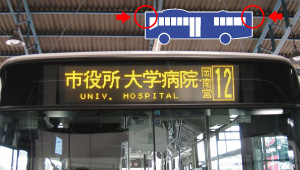destination: (57, 63, 242, 103)
